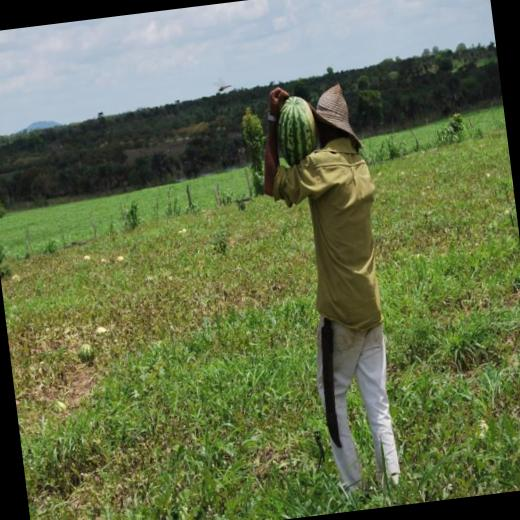Cherry: (271, 93, 322, 168)
